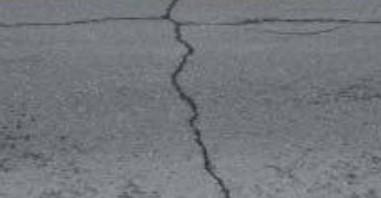crack: (167, 20, 235, 198), (0, 13, 381, 30), (161, 0, 179, 20)
